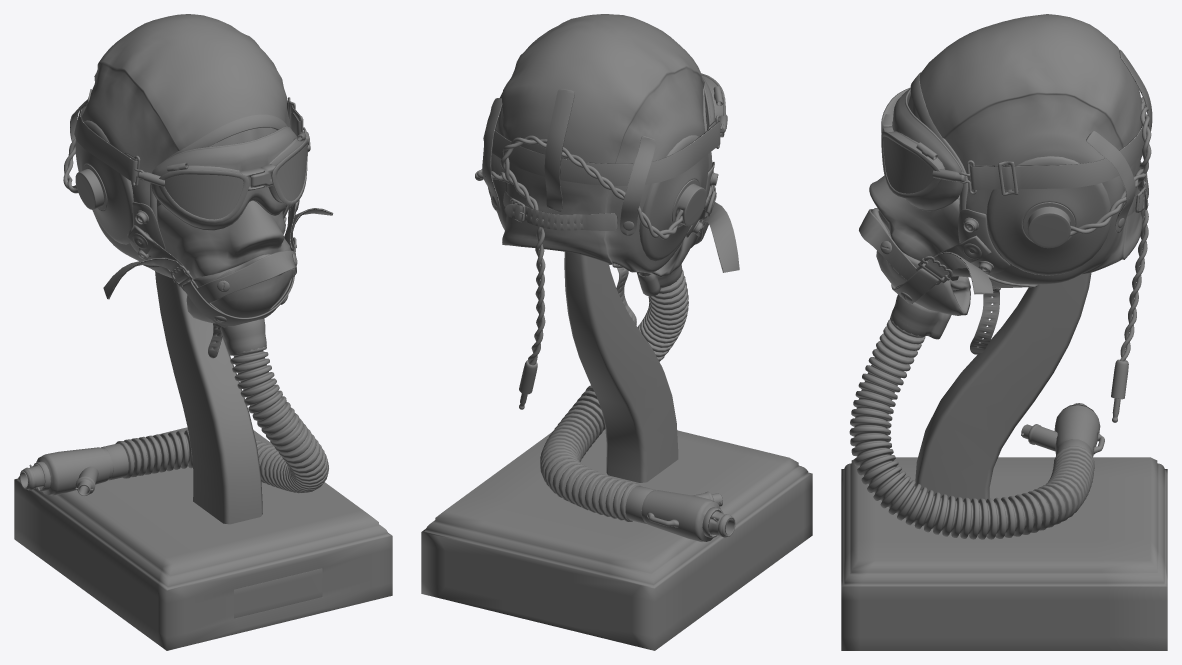
File: flightHelmet_neural.glb
The picture shows the model from 3 angles, left to right: view 1: azimuth 30°, elevation 25°; view 2: azimuth 150°, elevation 25°; view 3: azimuth 270°, elevation 25°; orthographic projection. The views are drawn at different scales.
Parts seen in each view (by area): view 1: Plastic3_low, Plastic2_low, Leather1_low, Plastic1_low, Metal1_low, MaskPad_low, Lenses_low, Headphones_low, Metal3_low, Leather2_low, Leather3_low, Metal2_low; view 2: Plastic3_low, Leather1_low, Plastic2_low, Plastic1_low, Leather3_low, Headphones_low, Metal3_low, Metal1_low, Metal2_low; view 3: Plastic3_low, Leather1_low, Plastic2_low, Plastic1_low, Headphones_low, Leather3_low, Metal1_low, MaskPad_low, Leather2_low, Metal2_low, Lenses_low, Metal3_low.
Part boxes in pixels (<box>): Plastic3_low: <box>14,254,392,650</box>; Plastic2_low: <box>74,100,303,524</box>; Leather1_low: <box>82,14,290,264</box>; Plastic1_low: <box>63,138,333,493</box>; Metal1_low: <box>29,97,322,618</box>; MaskPad_low: <box>151,126,296,230</box>; Lenses_low: <box>165,143,307,219</box>; Headphones_low: <box>75,120,133,244</box>; Metal3_low: <box>20,164,275,495</box>; Leather2_low: <box>150,114,287,358</box>; Leather3_low: <box>70,89,289,282</box>; Metal2_low: <box>75,131,310,496</box>; Plastic3_low: <box>421,186,812,650</box>; Leather1_low: <box>491,14,711,272</box>; Plastic2_low: <box>475,114,720,482</box>; Plastic1_low: <box>500,135,739,521</box>; Leather3_low: <box>482,89,714,256</box>; Headphones_low: <box>487,135,708,261</box>; Metal3_low: <box>519,212,735,541</box>; Metal1_low: <box>492,73,725,537</box>; Metal2_low: <box>510,86,727,506</box>; Plastic3_low: <box>841,208,1167,650</box>; Leather1_low: <box>919,14,1142,284</box>; Plastic2_low: <box>859,125,1146,501</box>; Plastic1_low: <box>849,97,1151,539</box>; Headphones_low: <box>986,156,1110,275</box>; Leather3_low: <box>908,50,1152,287</box>; Metal1_low: <box>880,87,1144,456</box>; MaskPad_low: <box>892,88,962,211</box>; Leather2_low: <box>910,72,999,354</box>; Metal2_low: <box>883,114,1146,451</box>; Lenses_low: <box>883,136,933,193</box>; Metal3_low: <box>883,126,1100,457</box>.
Bounding box in the file's own units: 19.88 × 38.82 × 20.15.
Materials: 5 (5 with a texture image).
